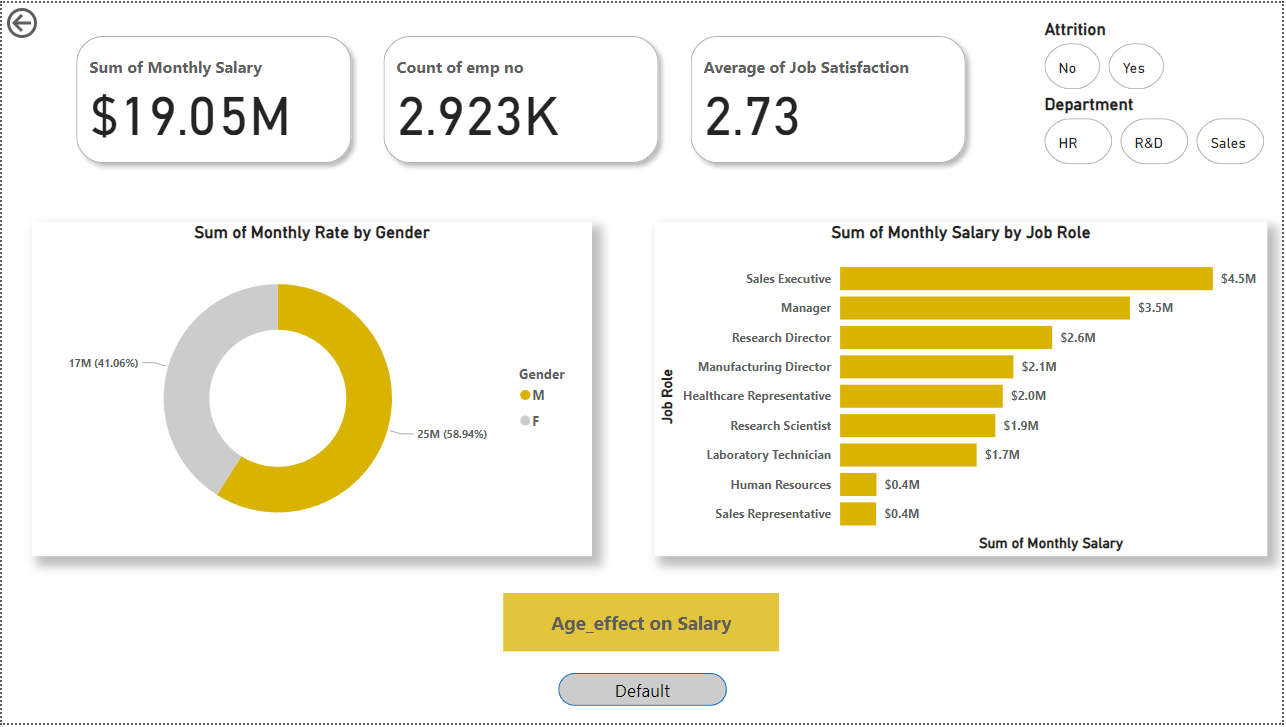

The page's visual inventory and layout, read from the dashboard file:
{"tool":"powerbi","page":{"name":"Salary_analysis","canvas":[1280,720],"ordinal":3},"visuals":[{"type":"actionButton","title":"Age_effect","box":[501.4,590,275.7,58.6],"z":0},{"type":"cardVisual","fields":{"Data":["Sum(Sheet1.Monthly Salary)","Count(Sheet1.emp no)","Avg(Sheet1.Job Satisfaction)"]},"box":[57.1,16,924.3,161.4],"z":1000},{"type":"advancedSlicerVisual","fields":{"Values":["Sheet1.Attrition"]},"box":[1037.1,15.7,195.7,75.7],"z":2000},{"type":"advancedSlicerVisual","fields":{"Values":["Sheet1.Department"]},"box":[1037.1,91.4,232.9,75.7],"z":3000},{"type":"actionButton","box":[0,0,100,40],"z":4000},{"type":"donutChart","fields":{"Category":["Sheet1.Gender"],"Y":["Sum(Sheet1.Monthly Rate)"]},"box":[30,218.6,560,334.3],"z":5000},{"type":"clusteredBarChart","fields":{"Category":["Sheet1.Job Role"],"Y":["Sum(Sheet1.Monthly Salary)"]},"box":[652.9,218.6,612.9,334.3],"z":6000},{"type":"shape","box":[555.7,670,168.6,32.9],"z":8000}]}

Visuals, with their boxes in screenshot pixels (x1, y1, x2, y2), scaled from the page's 1280x720 canvas onto the 1286x727 screenshot:
"Age_effect" actionButton: 504 596 781 655
cardVisual - Sum(Sheet1.Monthly Salary) x Count(Sheet1.emp no): 57 16 986 179
advancedSlicerVisual - Sheet1.Attrition: 1042 16 1239 92
advancedSlicerVisual - Sheet1.Department: 1042 92 1276 169
actionButton: 0 0 100 40
donutChart - Sheet1.Gender x Sum(Sheet1.Monthly Rate): 30 221 593 558
clusteredBarChart - Sheet1.Job Role x Sum(Sheet1.Monthly Salary): 656 221 1272 558
shape: 558 677 728 710
